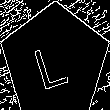L_N: (34, 32, 76, 90)
